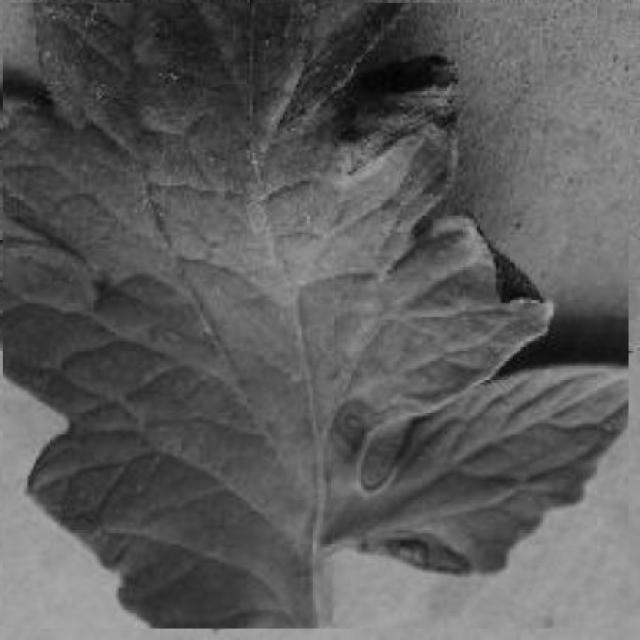Early Blight: (4, 3, 629, 628)
